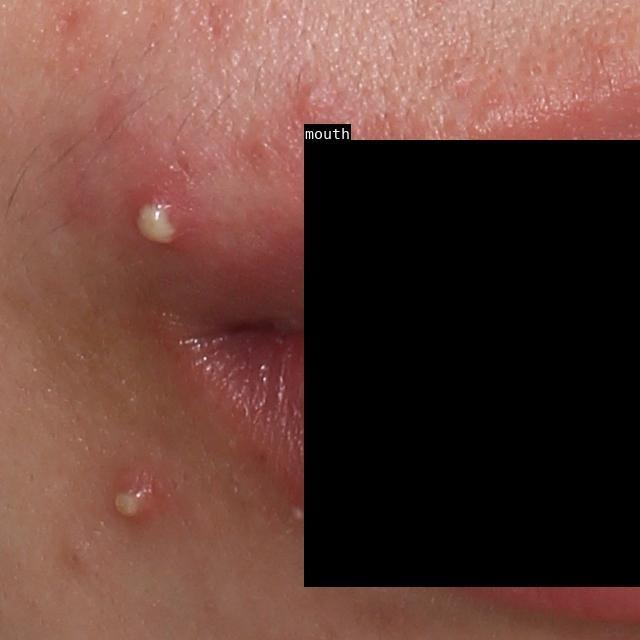comedo: (525, 58, 547, 79)
papule: (294, 82, 328, 120)
pustule: (119, 174, 216, 268), (103, 464, 161, 529), (287, 502, 310, 524)
